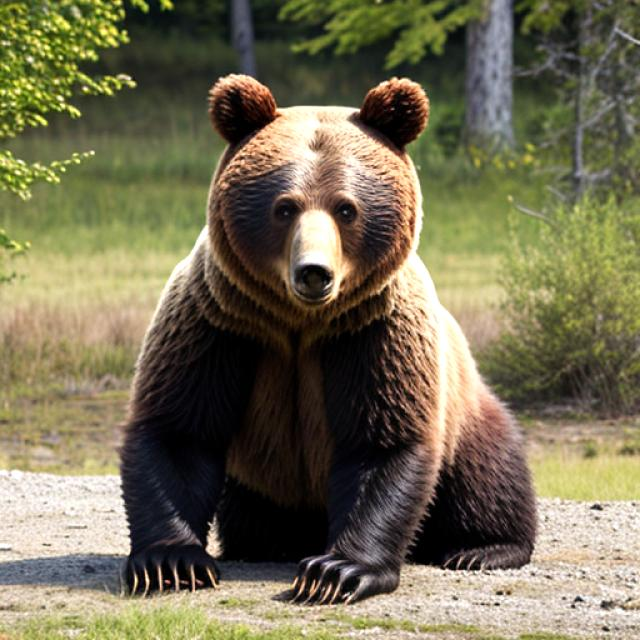bear: (201, 65, 439, 318)
